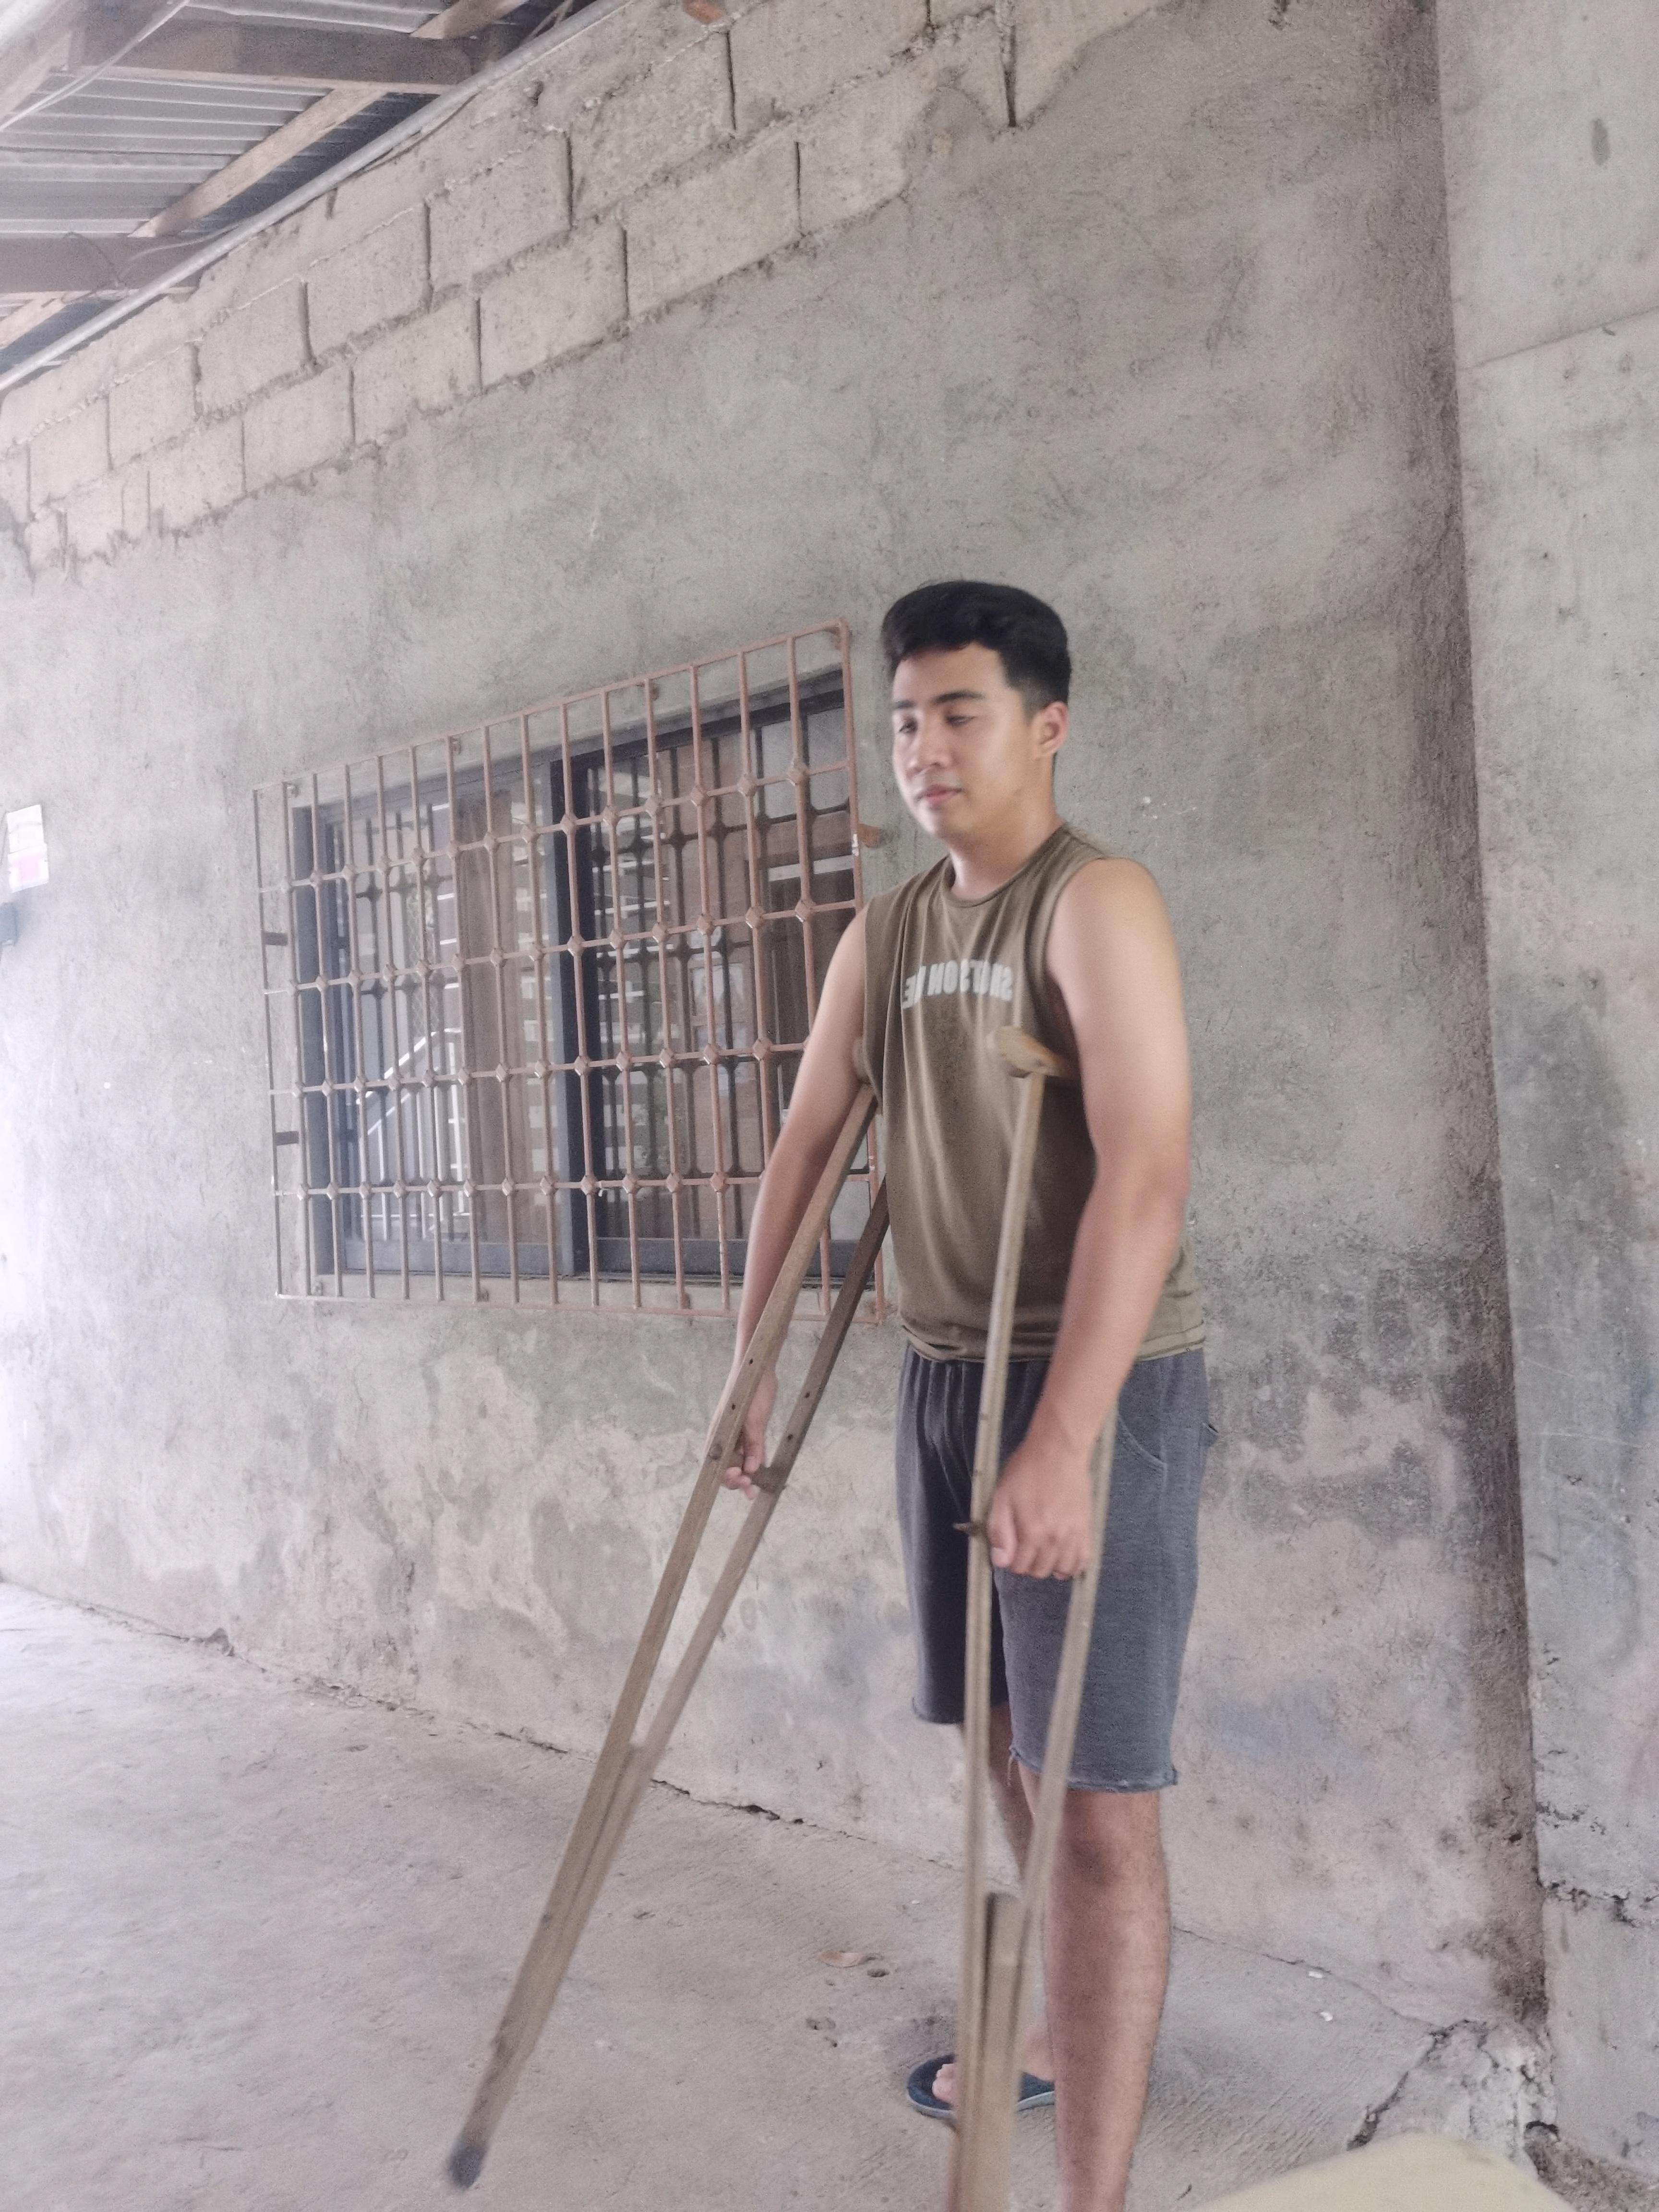crutches: (451, 589, 1223, 2212)
